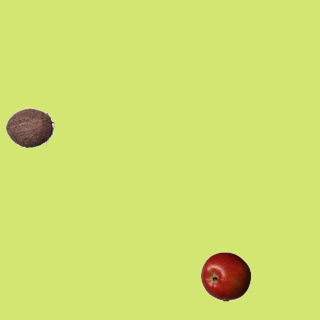Apple Braeburn: (200, 251, 250, 301)
Cocos: (4, 102, 54, 152)
